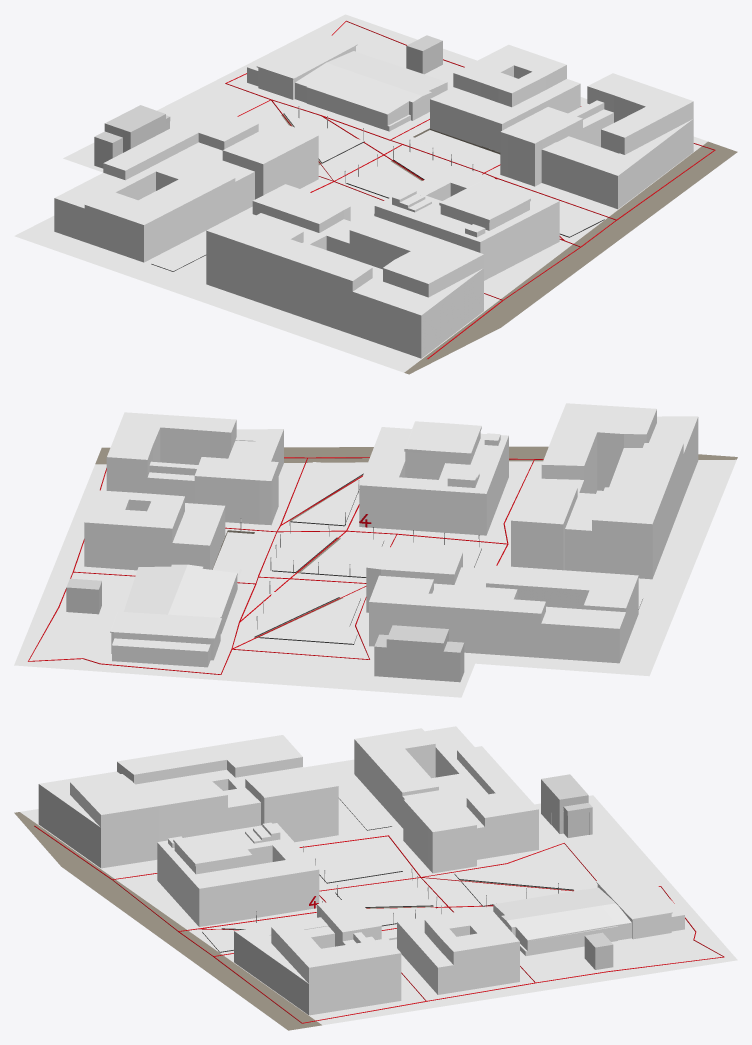
The model's file is hsd_protoMap.glb.
The picture shows the model from 3 angles, top to bottom: view 1: azimuth 30°, elevation 25°; view 2: azimuth 150°, elevation 25°; view 3: azimuth 270°, elevation 25°; orthographic projection. The views are drawn at different scales.
Visible parts, largest first — view 1: Boden, 5, 6, 3, 4, 1, 2, 11, pfad, P; view 2: Boden, 5, 6, 3, 4, 1, 2, 11, pfad, P; view 3: Boden, 5, 6, 3, 4, 1, 2, pfad, 11, P.
Part boxes in pixels (left/top/right/bottom): Boden: left=14, top=14, right=737, bottom=374; 5: left=206, top=184, right=483, bottom=358; 6: left=54, top=107, right=318, bottom=262; 3: left=500, top=73, right=693, bottom=209; 4: left=374, top=164, right=559, bottom=280; 1: left=247, top=32, right=447, bottom=131; 2: left=430, top=44, right=580, bottom=152; 11: left=94, top=105, right=170, bottom=168; pfad: left=225, top=20, right=715, bottom=358; P: left=406, top=35, right=442, bottom=74; Boden: left=14, top=446, right=737, bottom=697; 5: left=511, top=403, right=698, bottom=579; 6: left=366, top=546, right=638, bottom=663; 3: left=106, top=412, right=283, bottom=525; 4: left=359, top=421, right=508, bottom=535; 1: left=110, top=564, right=237, bottom=667; 2: left=84, top=490, right=225, bottom=570; 11: left=374, top=625, right=464, bottom=682; pfad: left=28, top=457, right=543, bottom=674; P: left=66, top=578, right=101, bottom=614; Boden: left=14, top=759, right=737, bottom=1030; 5: left=38, top=735, right=338, bottom=868; 6: left=354, top=726, right=538, bottom=873; 3: left=234, top=897, right=401, bottom=1015; 4: left=157, top=822, right=319, bottom=926; 1: left=493, top=874, right=684, bottom=955; 2: left=397, top=908, right=519, bottom=994; pfad: left=34, top=825, right=724, bottom=1023; 11: left=541, top=774, right=592, bottom=837; P: left=584, top=932, right=613, bottom=969.
Size of the model in its own units: 116 by 10.61 by 123.
